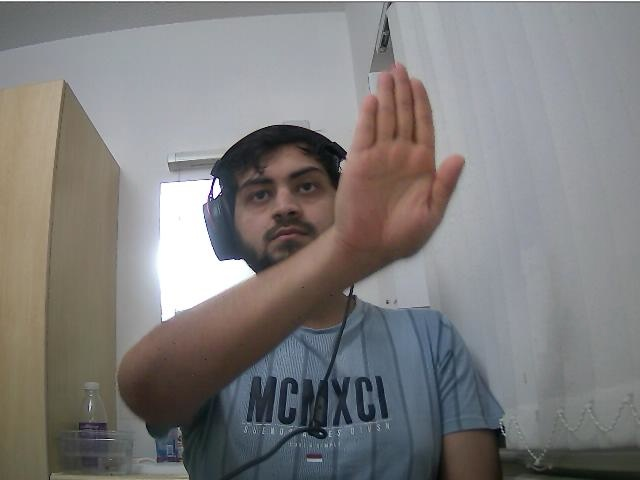up: (342, 64, 445, 247)
